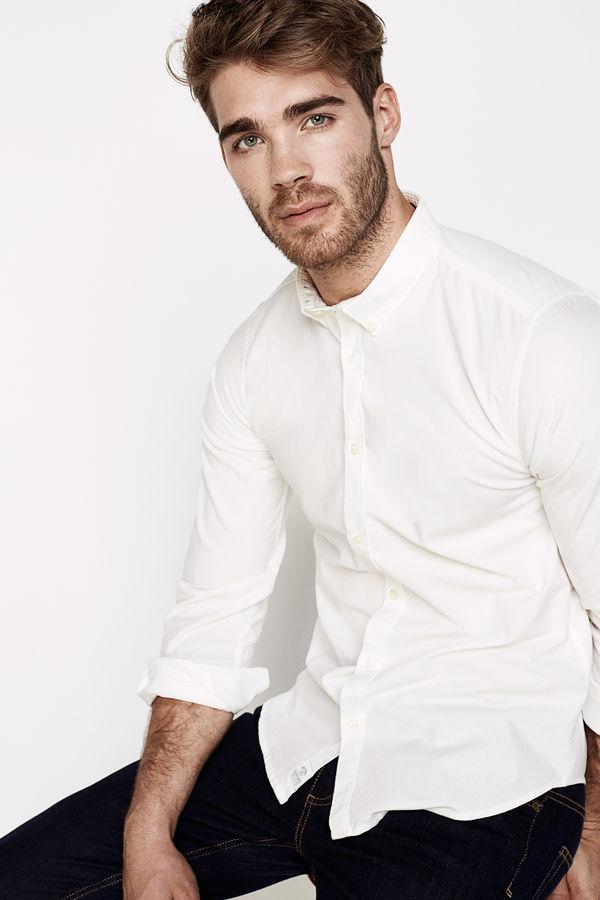teeshirt: (149, 255, 600, 813)
